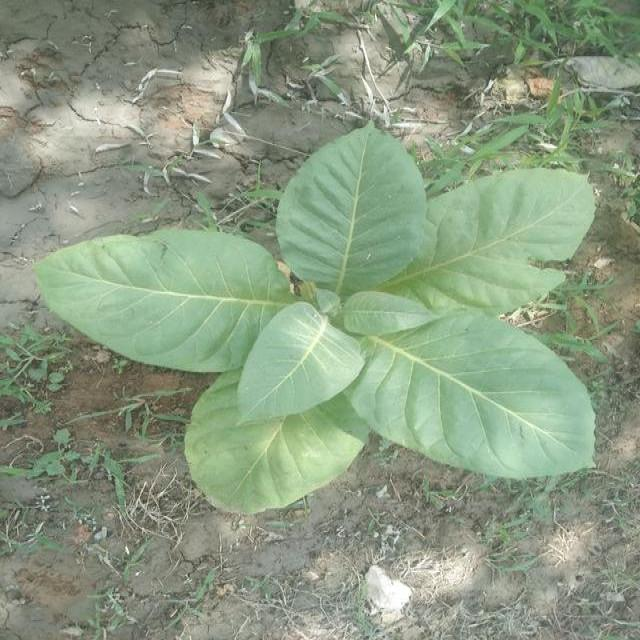crop: (31, 116, 598, 515)
